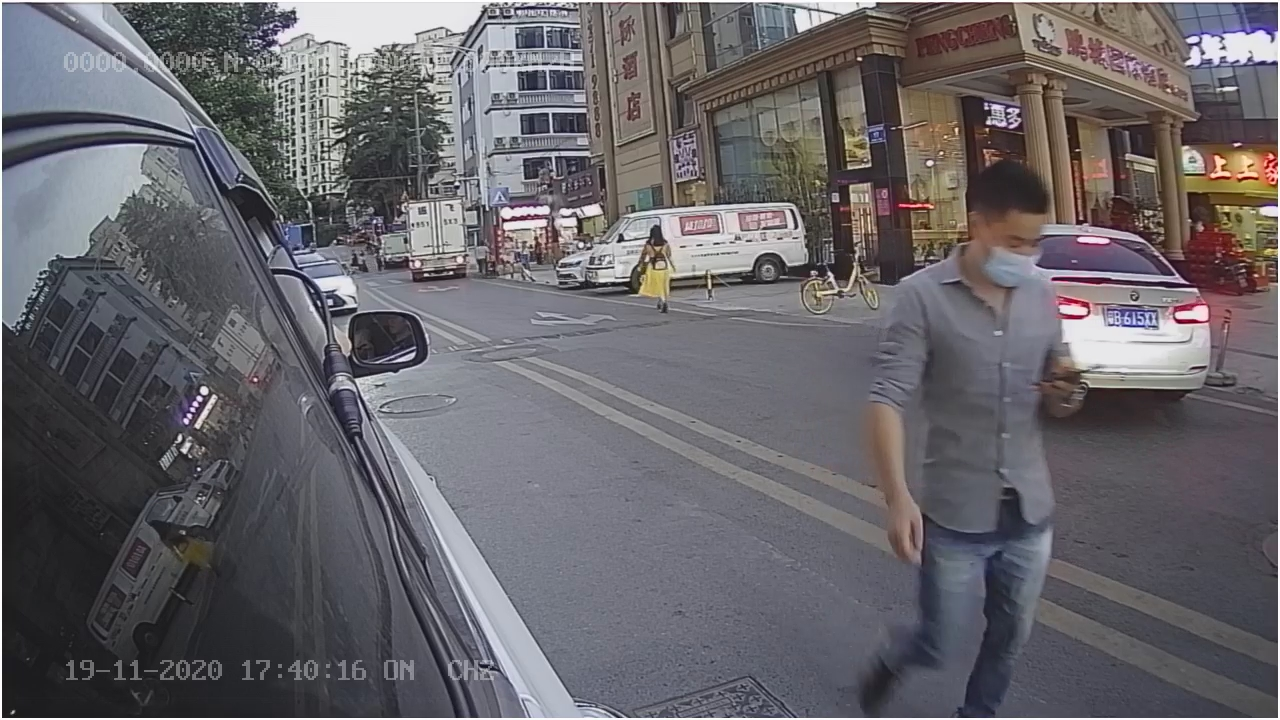person: (858, 163, 1089, 697)
